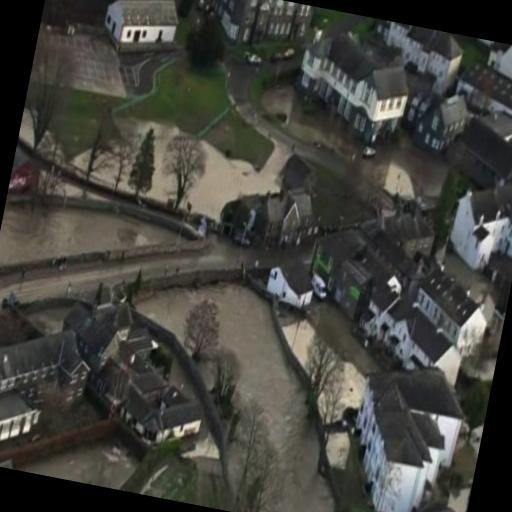flood: (136, 283, 334, 512), (262, 84, 469, 207), (0, 236, 257, 302), (181, 140, 292, 222), (0, 204, 152, 263), (8, 439, 142, 490), (115, 116, 180, 204), (42, 175, 109, 201), (90, 156, 118, 189), (62, 151, 89, 178), (18, 108, 32, 147), (39, 132, 54, 159)
house: (49, 280, 228, 447), (344, 351, 480, 512), (280, 20, 424, 168), (404, 246, 500, 364), (0, 310, 79, 423), (443, 176, 512, 283), (209, 0, 321, 62), (102, 0, 184, 62), (410, 88, 471, 164), (328, 242, 383, 324), (252, 184, 318, 248), (404, 28, 466, 90), (458, 58, 512, 125), (266, 256, 320, 318)
